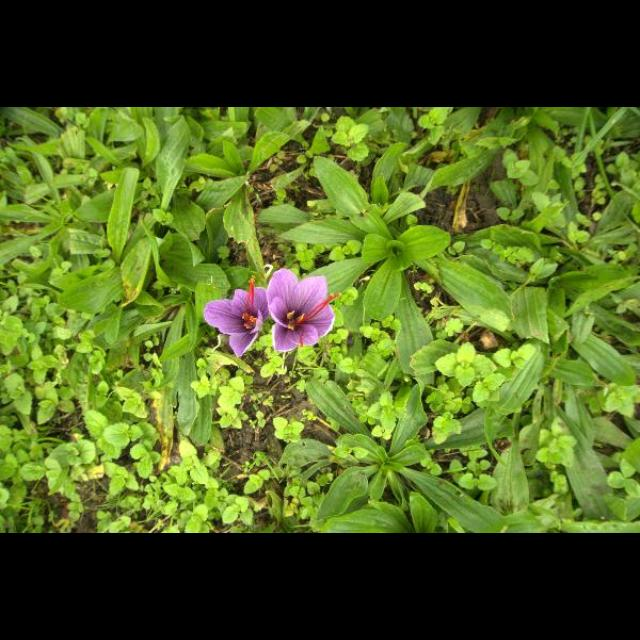flower: (267, 269, 339, 353), (202, 278, 268, 358)
